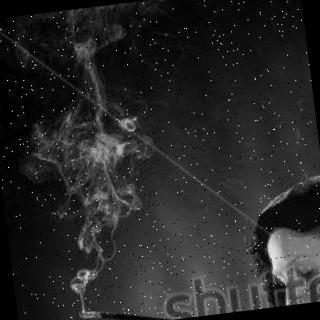smoke: (35, 108, 154, 289)
